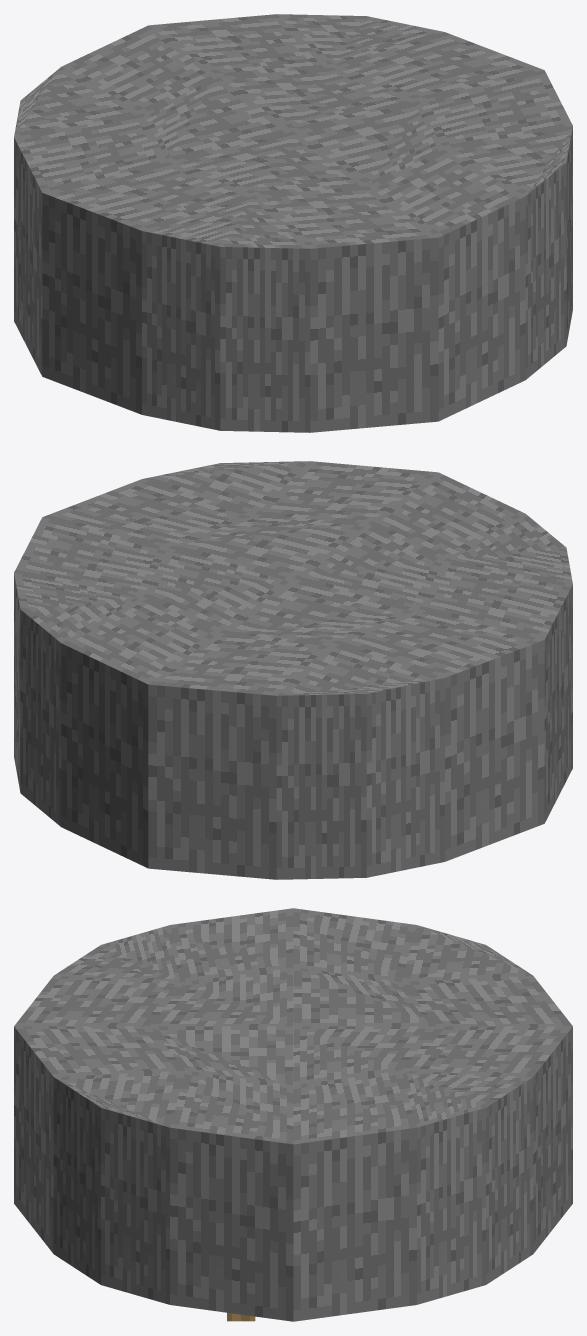
The model's file is quern_top.obj.
3 renders of one model, top to bottom at view 1: azimuth 30°, elevation 25°; view 2: azimuth 150°, elevation 25°; view 3: azimuth 270°, elevation 25°, orthographic. The views are drawn at different scales.
Visible parts, largest first — view 1: Cube_Cube.001; view 2: Cube_Cube.001; view 3: Cube_Cube.001.
Part boxes in pixels (x1,y1,x2,y2): Cube_Cube.001: (14, 14, 572, 432); Cube_Cube.001: (14, 461, 572, 879); Cube_Cube.001: (14, 908, 572, 1321).
Bounding box in the file's own units: 2 × 1.04 × 2.
